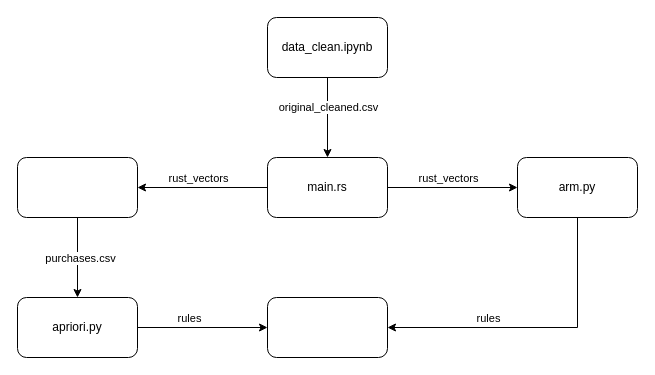
Image size: 655x375. Some labels were removed from this diagram. The centre of each missing label's shape, as x and y in pixels:
purchases.py: point (77, 187)
rule_explore.ipynb: point (327, 327)
